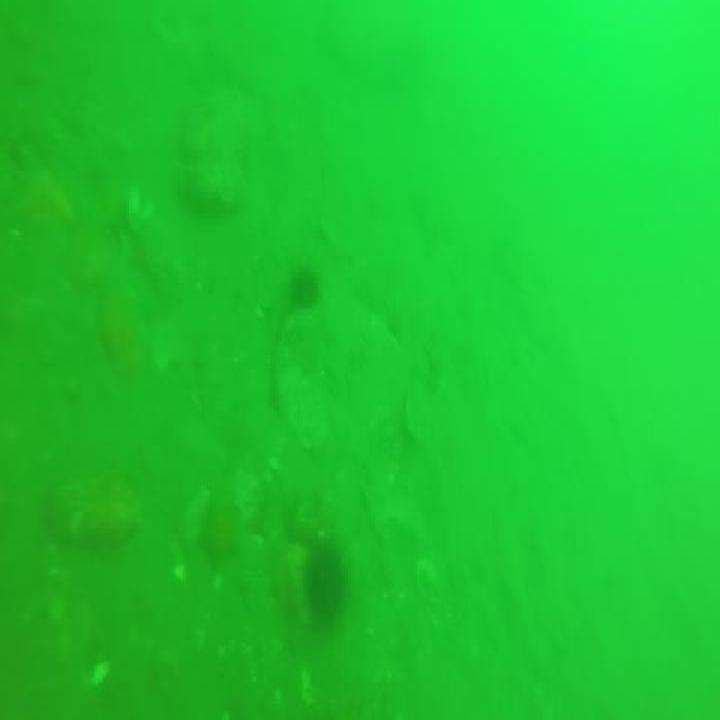echinus: (300, 537, 348, 631), (292, 267, 320, 313)
scallop: (414, 556, 448, 606), (127, 185, 154, 233)
